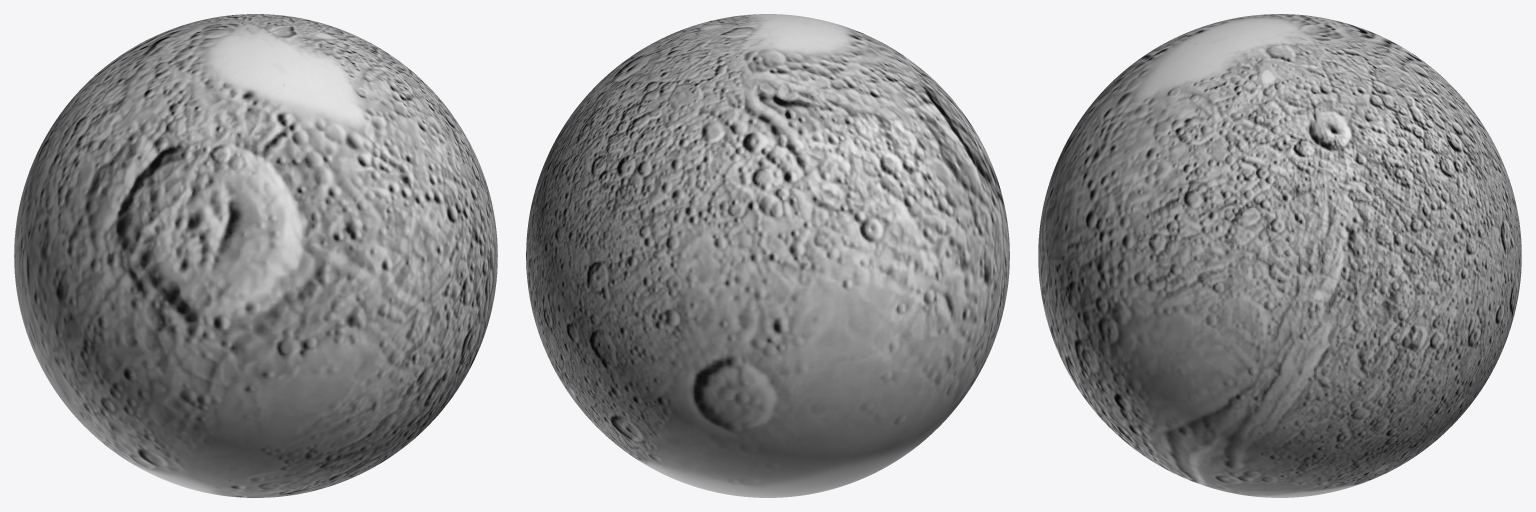
The model's file is tethys.glb.
The picture shows the model from 3 angles, left to right: view 1: azimuth 30°, elevation 25°; view 2: azimuth 150°, elevation 25°; view 3: azimuth 270°, elevation 25°; orthographic projection.
Parts seen in each view (by area): view 1: Tethys_Asset; view 2: Tethys_Asset; view 3: Tethys_Asset.
Boxes of the visible parts, x1,y1,x2,y2 form: Tethys_Asset: [14, 14, 497, 497]; Tethys_Asset: [526, 14, 1009, 497]; Tethys_Asset: [1038, 14, 1521, 497].
Bounding box in the file's own units: 0.3994 × 0.4 × 0.3994.
1 material, 1 textured.
